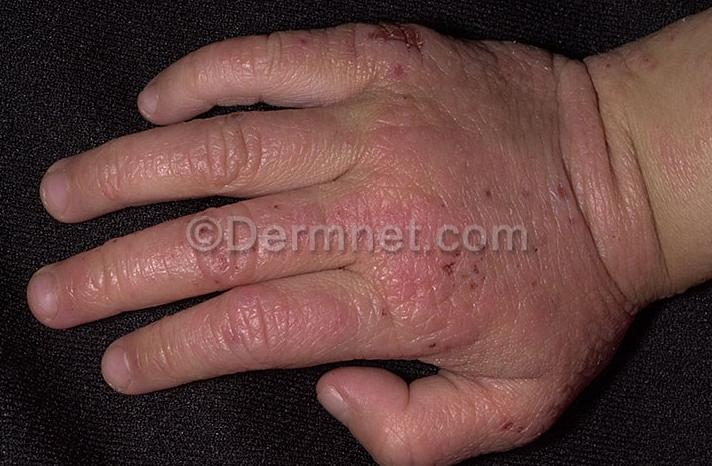exudacion 1: (366, 16, 436, 53), (441, 262, 454, 275), (500, 420, 515, 431), (380, 308, 387, 316)
liquenificacion 2: (25, 27, 660, 438)
